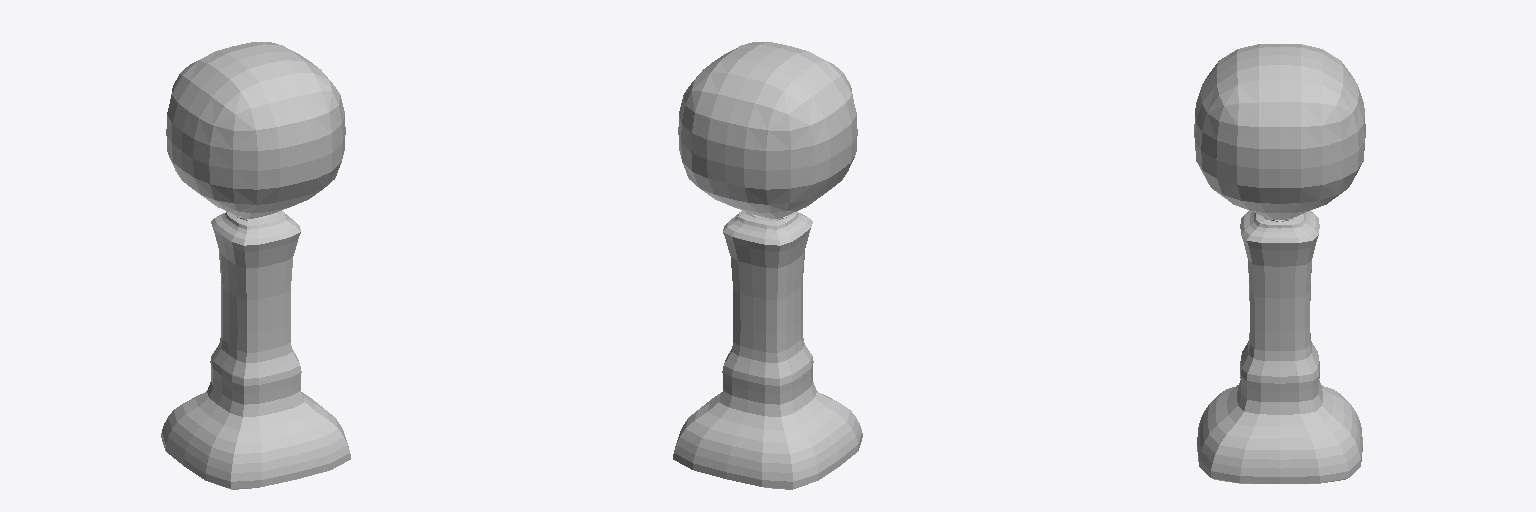
Rendered from pawn.obj.
The picture shows the model from 3 angles: view 1: azimuth 30°, elevation 25°; view 2: azimuth 150°, elevation 25°; view 3: azimuth 270°, elevation 25°; orthographic projection.
Parts seen in each view (by area): view 1: 立方体; view 2: 立方体; view 3: 立方体.
Boxes of the visible parts, x1,y1,x2,y2 form: 立方体: [161, 42, 350, 489]; 立方体: [673, 42, 862, 489]; 立方体: [1194, 44, 1365, 483].
Size of the model in its own units: 4 by 10.32 by 4.